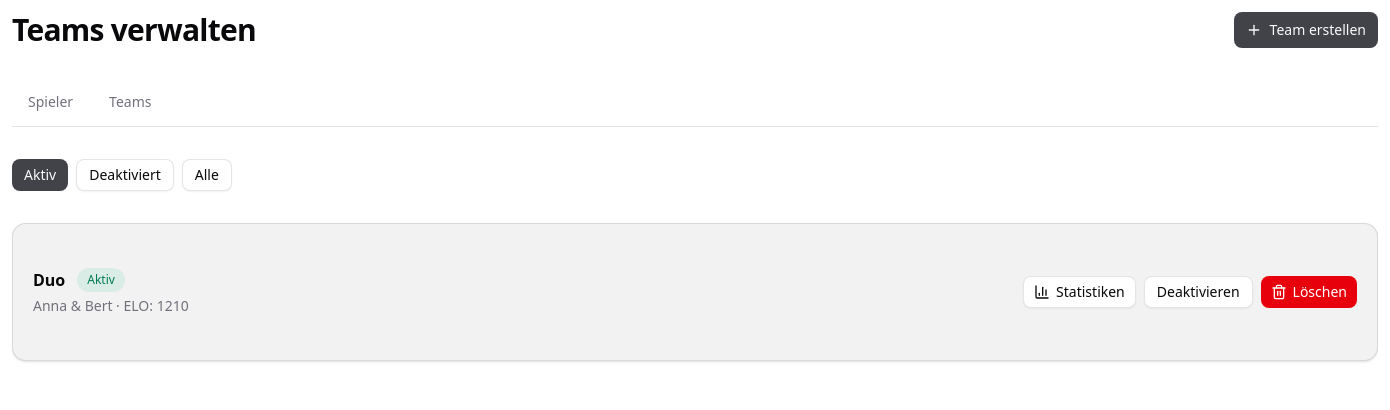
Test case: TeamsPage › offers a filter reset instead of team creation for disabled teams
Check: the heading "Duo" is shown, box [33,268,65,292]
Click the button "Deaktiviert" at point(125, 175), box [76,159,174,191]
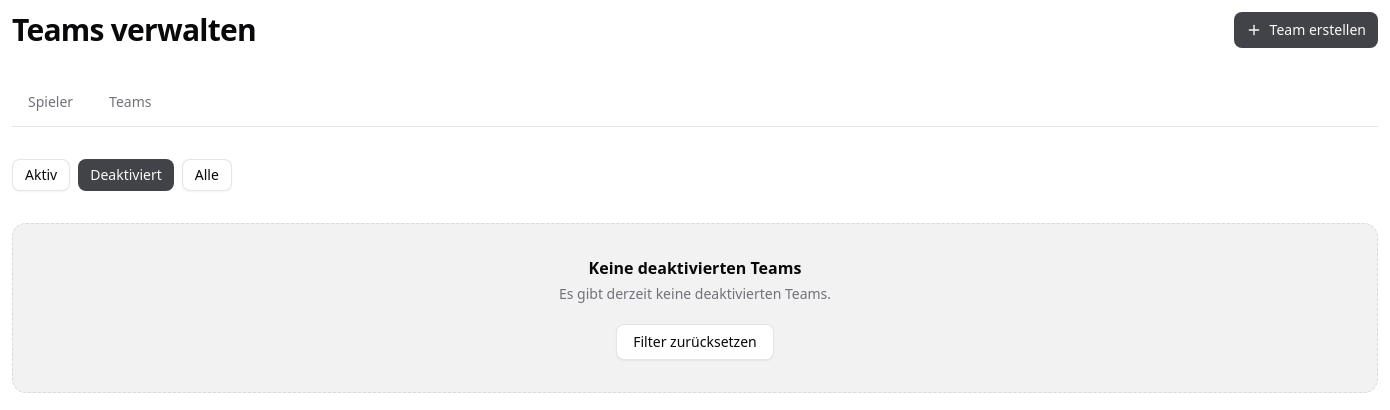
Check: the heading "Keine deaktivierten Teams" is shown, box [589,256,801,280]
Check: the text "Es gibt derzeit keine deaktivierten Teams." is shown, box [559,284,831,304]
Check: the button "Filter zurücksetzen" is shown, box [616,324,774,360]
